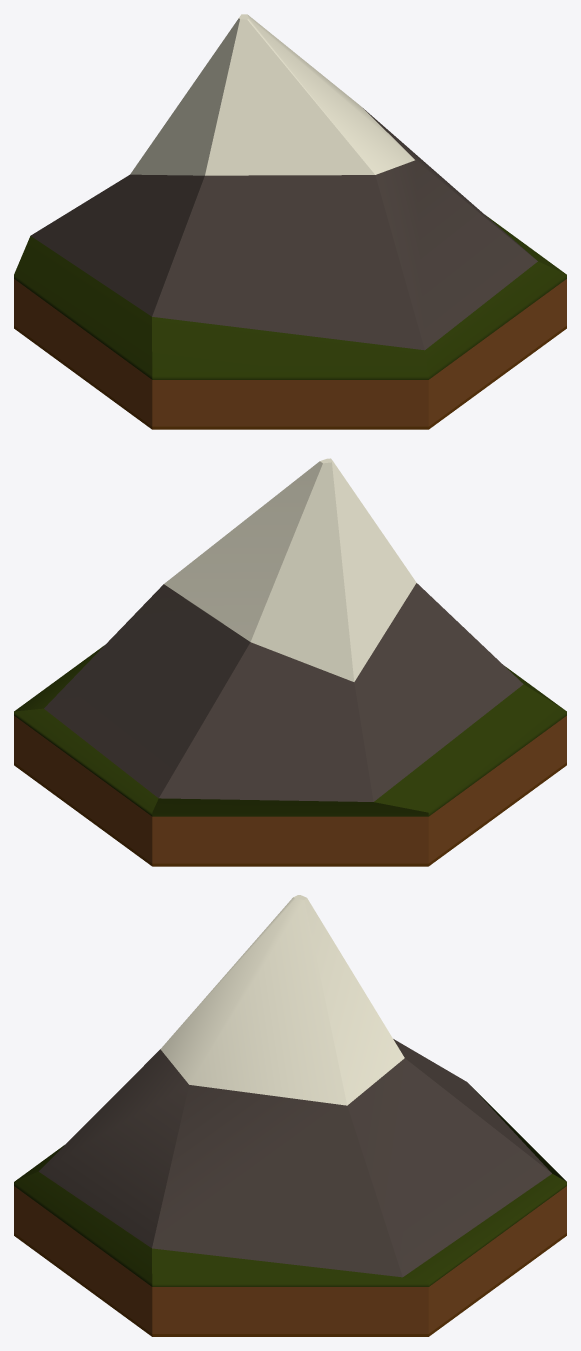
The model's file is mountain3.fbx.
3 views of the same model, one above another, from view 1: azimuth 30°, elevation 25°; view 2: azimuth 150°, elevation 25°; view 3: azimuth 270°, elevation 25° (orthographic).
Parts seen in each view (by area): view 1: pCylinder2; view 2: pCylinder2; view 3: pCylinder2.
Boxes of the visible parts, bbox=[...] form: pCylinder2: bbox=[14, 14, 566, 429]; pCylinder2: bbox=[14, 458, 566, 866]; pCylinder2: bbox=[14, 895, 566, 1336].
Size of the model in its own units: 1.73 by 1.27 by 2.
